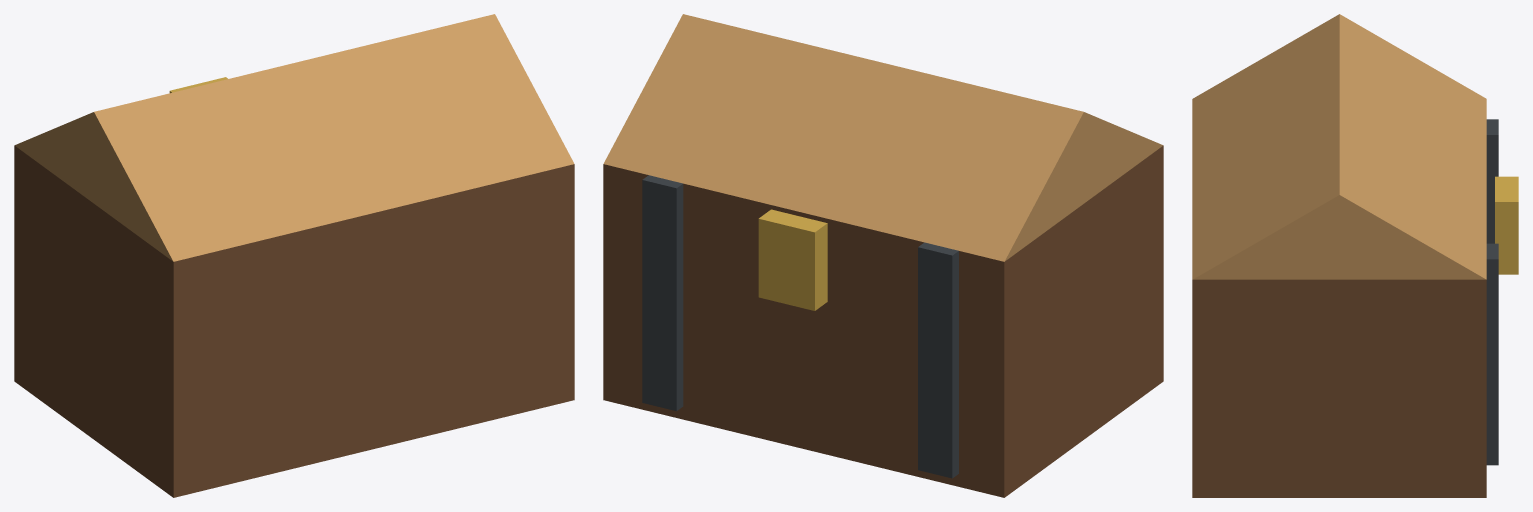
Rendered from reward_chest.glb.
3 views of the same model, side by side, from view 1: azimuth 30°, elevation 25°; view 2: azimuth 150°, elevation 25°; view 3: azimuth 270°, elevation 25° (orthographic). The views are drawn at different scales.
Visible parts, largest first — view 1: reward_chest; view 2: reward_chest; view 3: reward_chest.
Boxes of the visible parts, x1,y1,x2,y2 form: reward_chest: (14,14,574,497); reward_chest: (603,14,1163,497); reward_chest: (1192,14,1518,497).
Size of the model in its own units: 0.64 by 0.5 by 0.4875.
